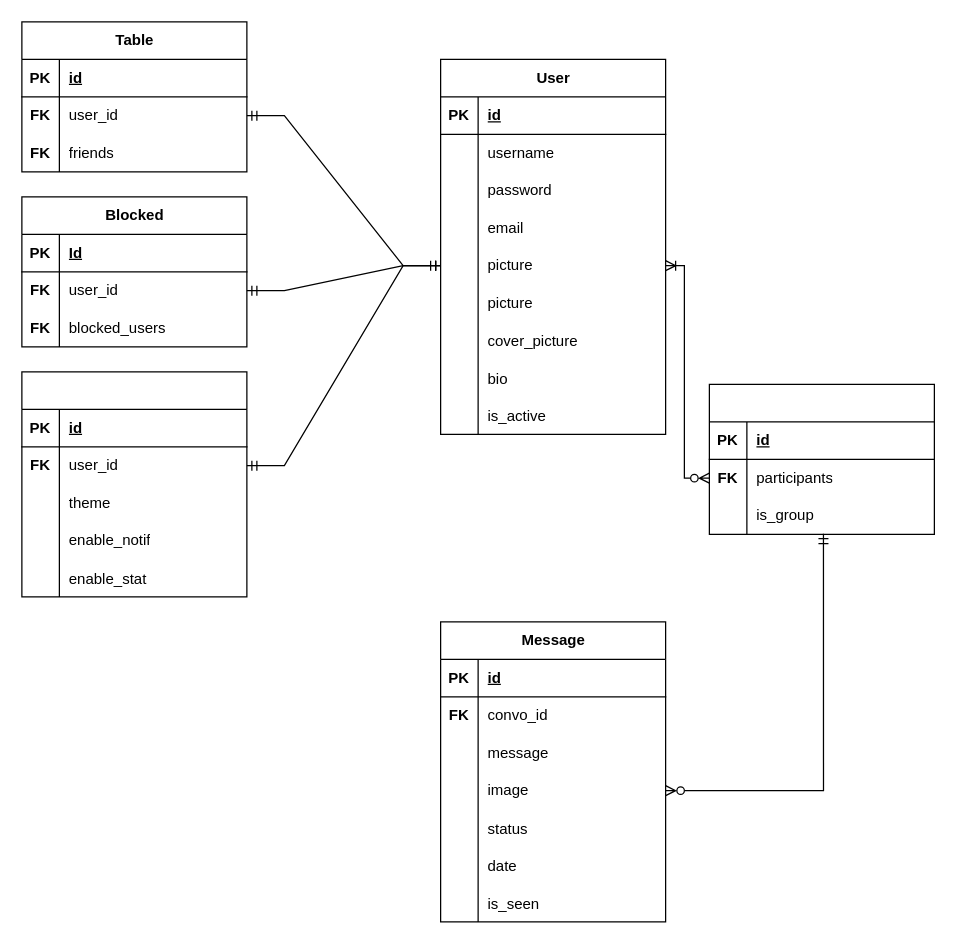
Image size: 956x944. Some labels were removed from this diagram. The shapes that lost their labels are listed below. From the top down, each one's box as (x1, y1, x2, y2) in pixels, then its label:
(708, 383, 934, 534): Conversation
(21, 371, 247, 597): Setting
